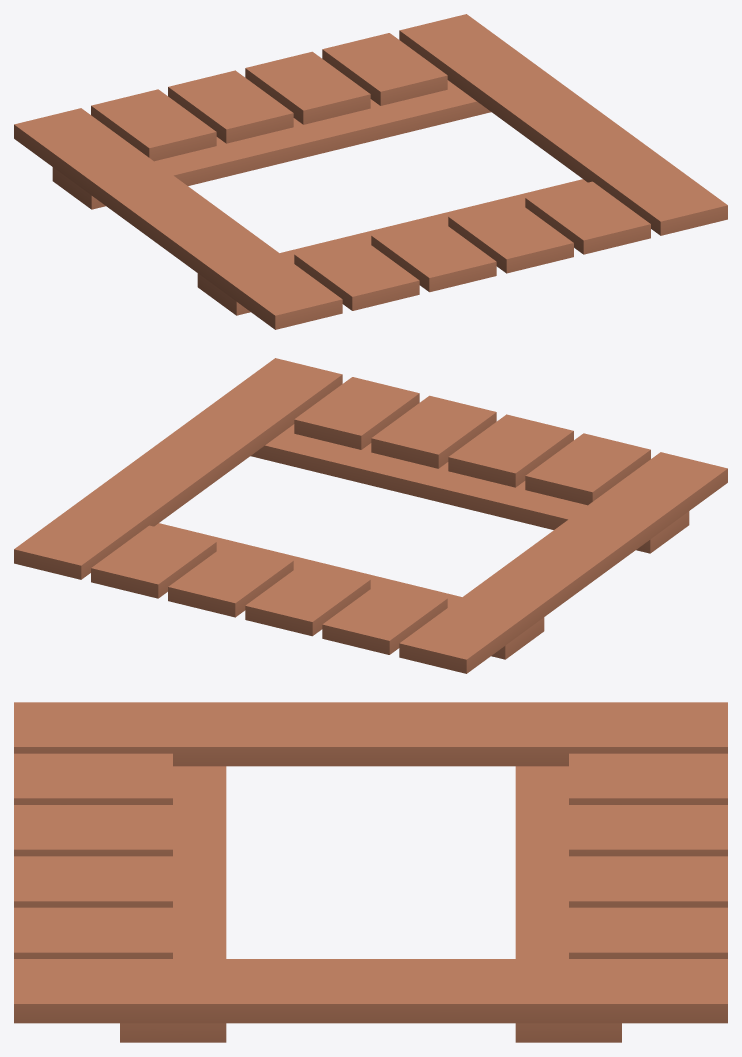
File: planks-opening.glb
3 views of the same model, one above another, from view 1: azimuth 30°, elevation 25°; view 2: azimuth 150°, elevation 25°; view 3: azimuth 270°, elevation 25° (orthographic). The views are drawn at different scales.
Visible parts, largest first — view 1: planks-opening; view 2: planks-opening; view 3: planks-opening.
Part boxes in pixels (x1=…): planks-opening: x1=14, y1=14, x2=727, y2=329; planks-opening: x1=14, y1=358, x2=727, y2=673; planks-opening: x1=14, y1=702, x2=727, y2=1042.
Size of the model in its own units: 1 by 0.06 by 1.
Materials: 1 (1 with a texture image).
